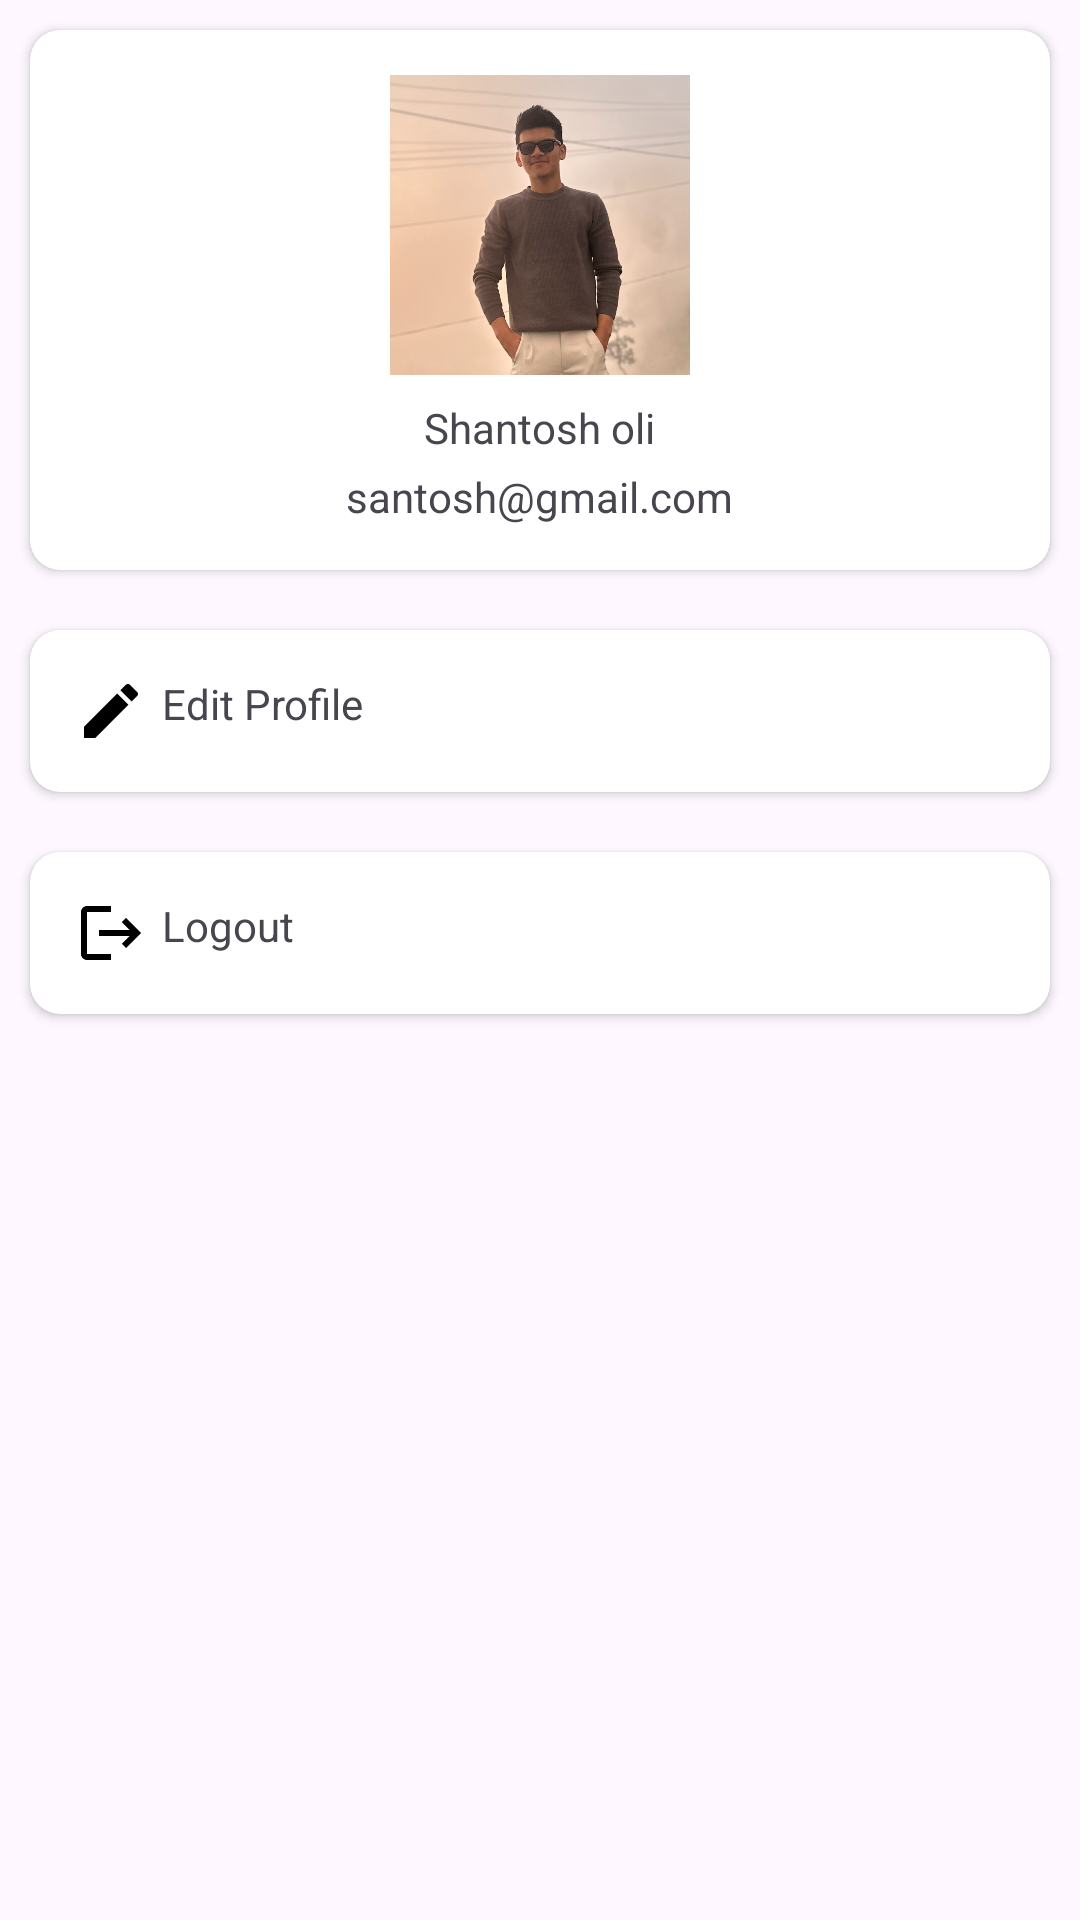

Where icons sit on this 1080×1920 app screen, as (x1, y1, x2, y2):
mode edit: (84, 684, 138, 738)
newprofile: (390, 75, 690, 375)
